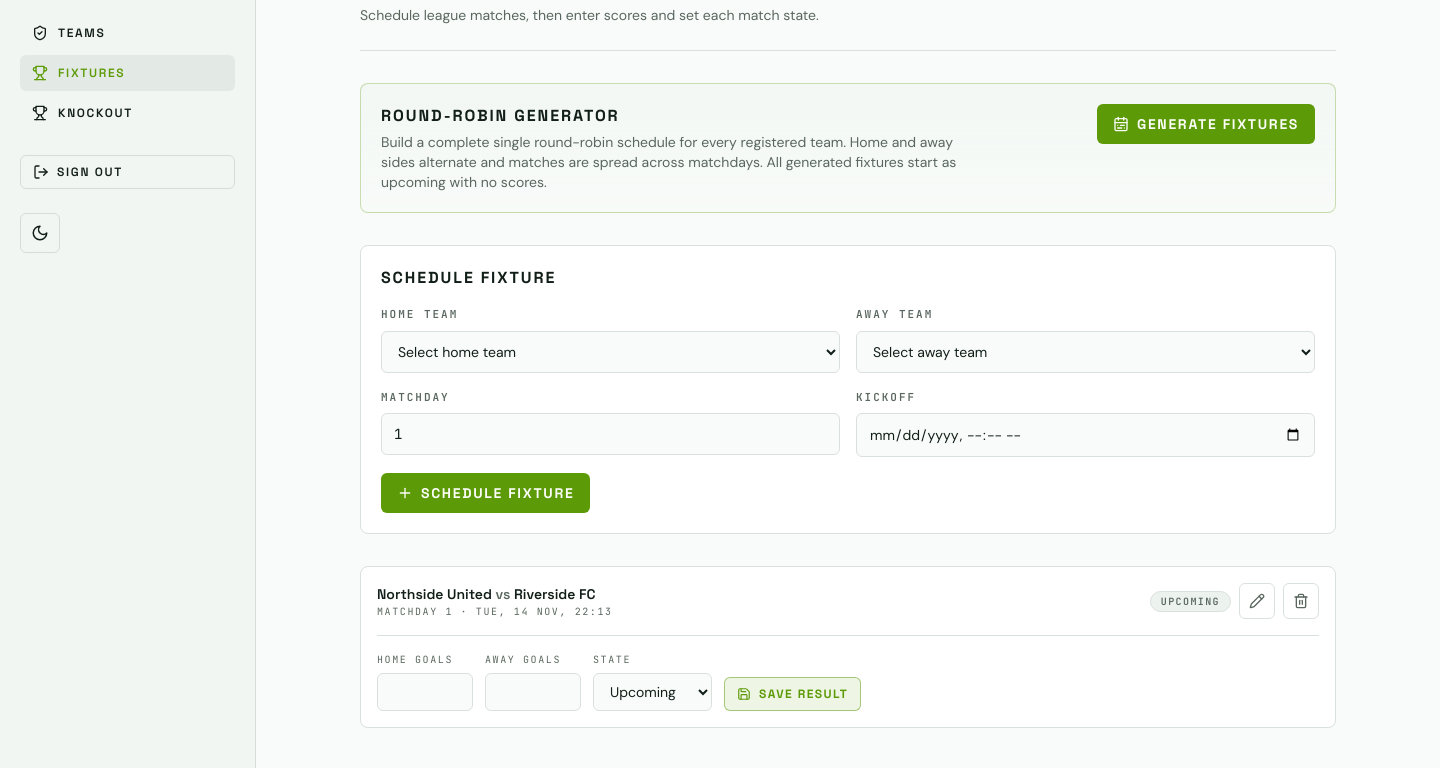
AdminFixturesPage › saves a completed result and shows the fixture as completed
The width and height of the screenshot is (1440, 768).
(page scrolled)
Type "3" into the number field with test id "admin.fixture_home_goals_input.1".
click(425, 692); type("3")  # box top-left (377, 673), bottom-right (473, 711)
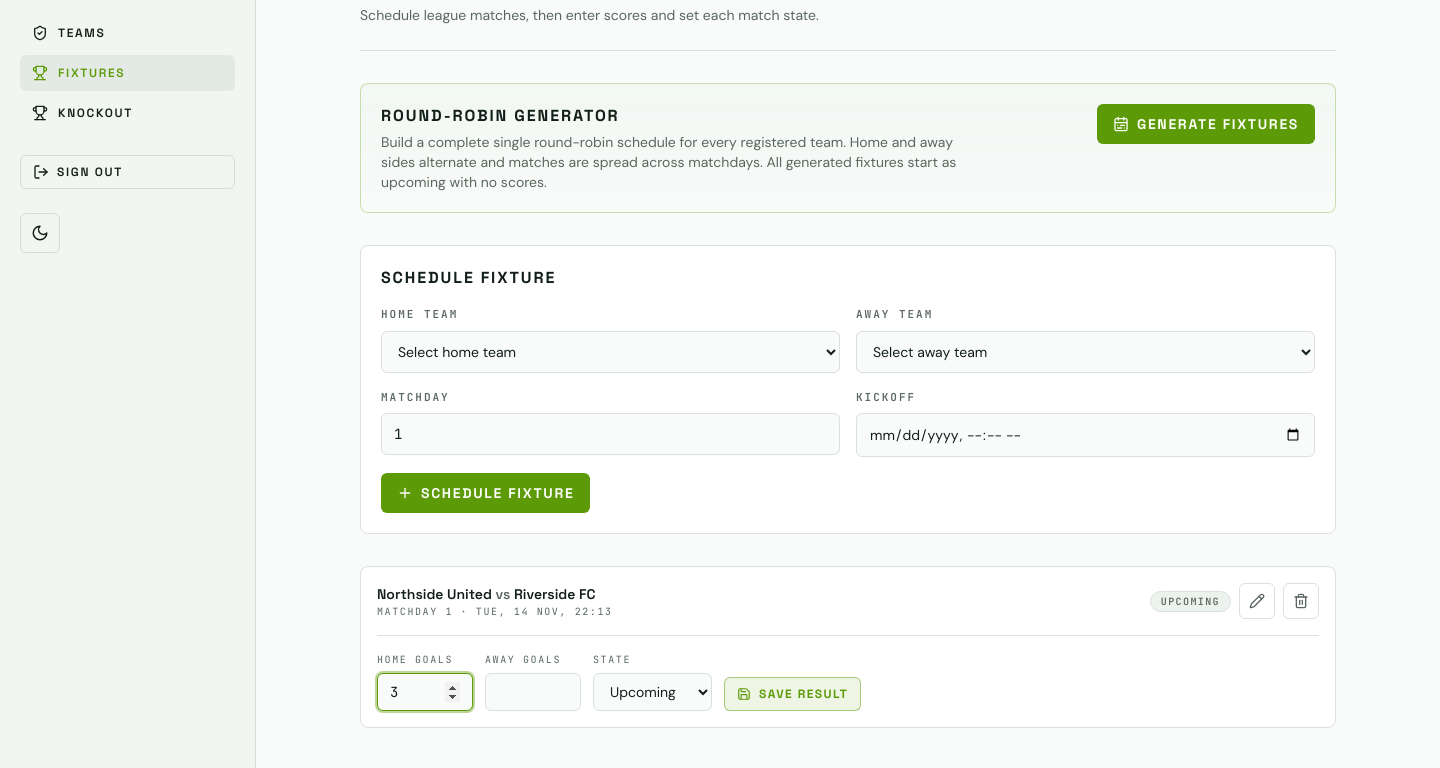
Type "1" into the number field with test id "admin.fixture_away_goals_input.1".
click(533, 692); type("1")  # box top-left (485, 673), bottom-right (581, 711)
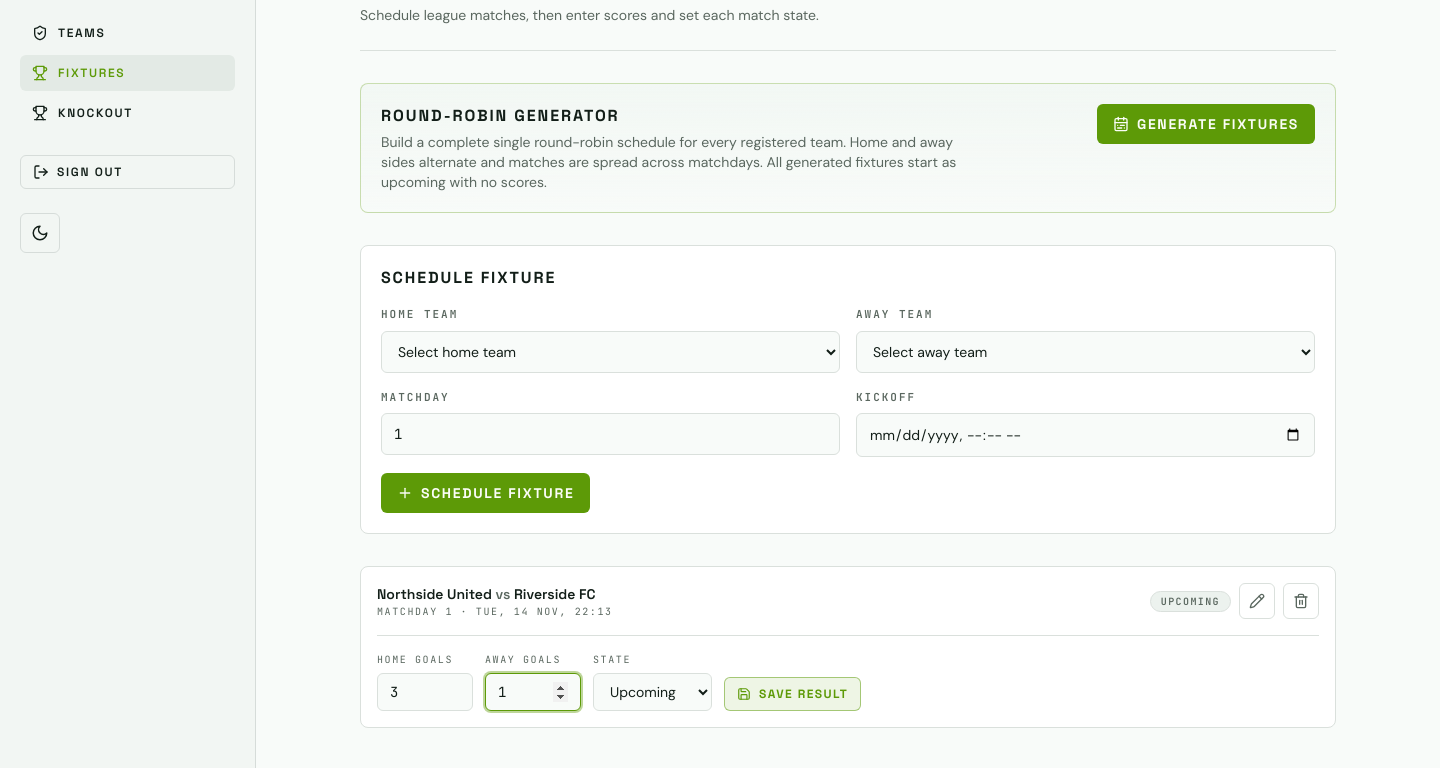
Select "Completed" in the dropdown with test id "admin.fixture_status_select.1" at coordinates (652, 692), box top-left (593, 673), bottom-right (712, 711)
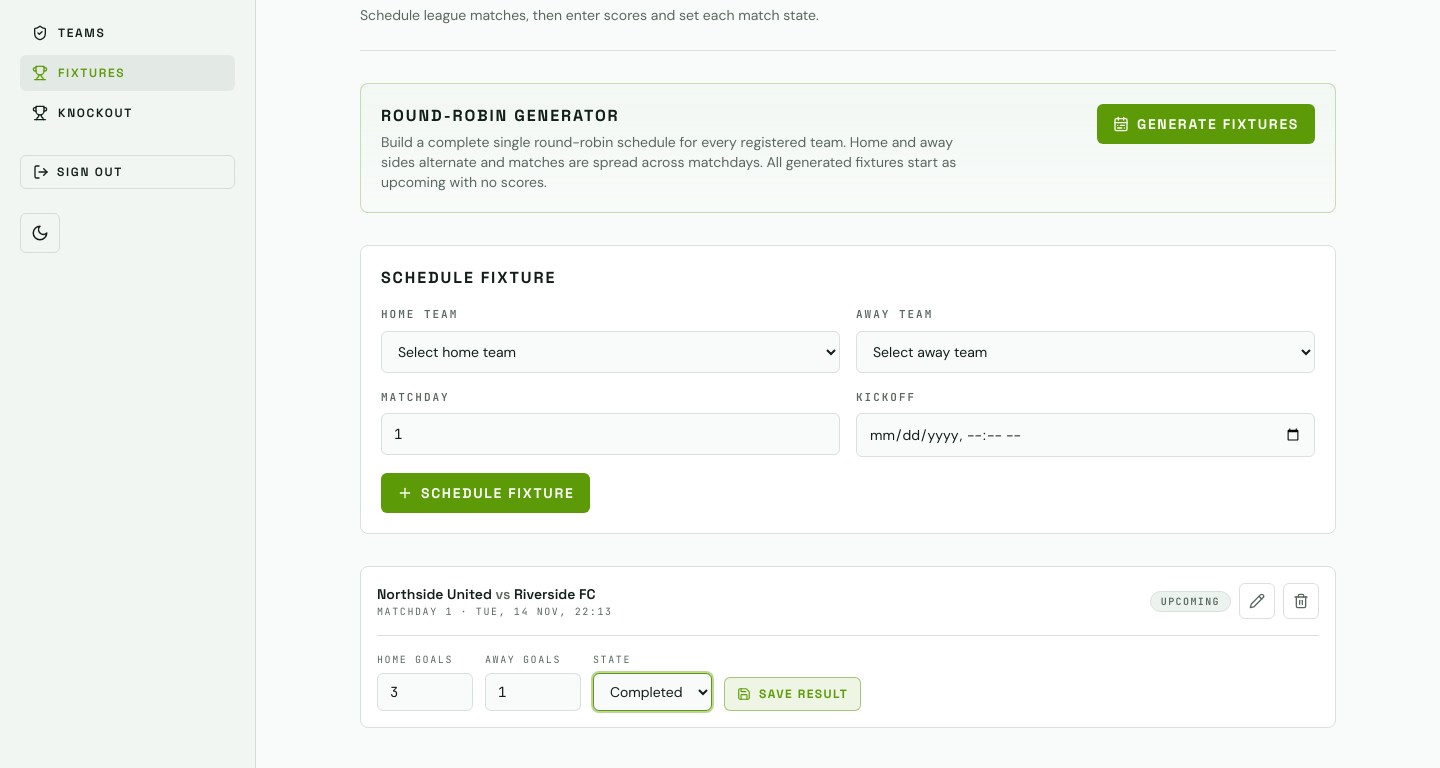
Click the button with test id "admin.fixture_save_result_button.1".
click(793, 694)  # box top-left (724, 677), bottom-right (861, 711)
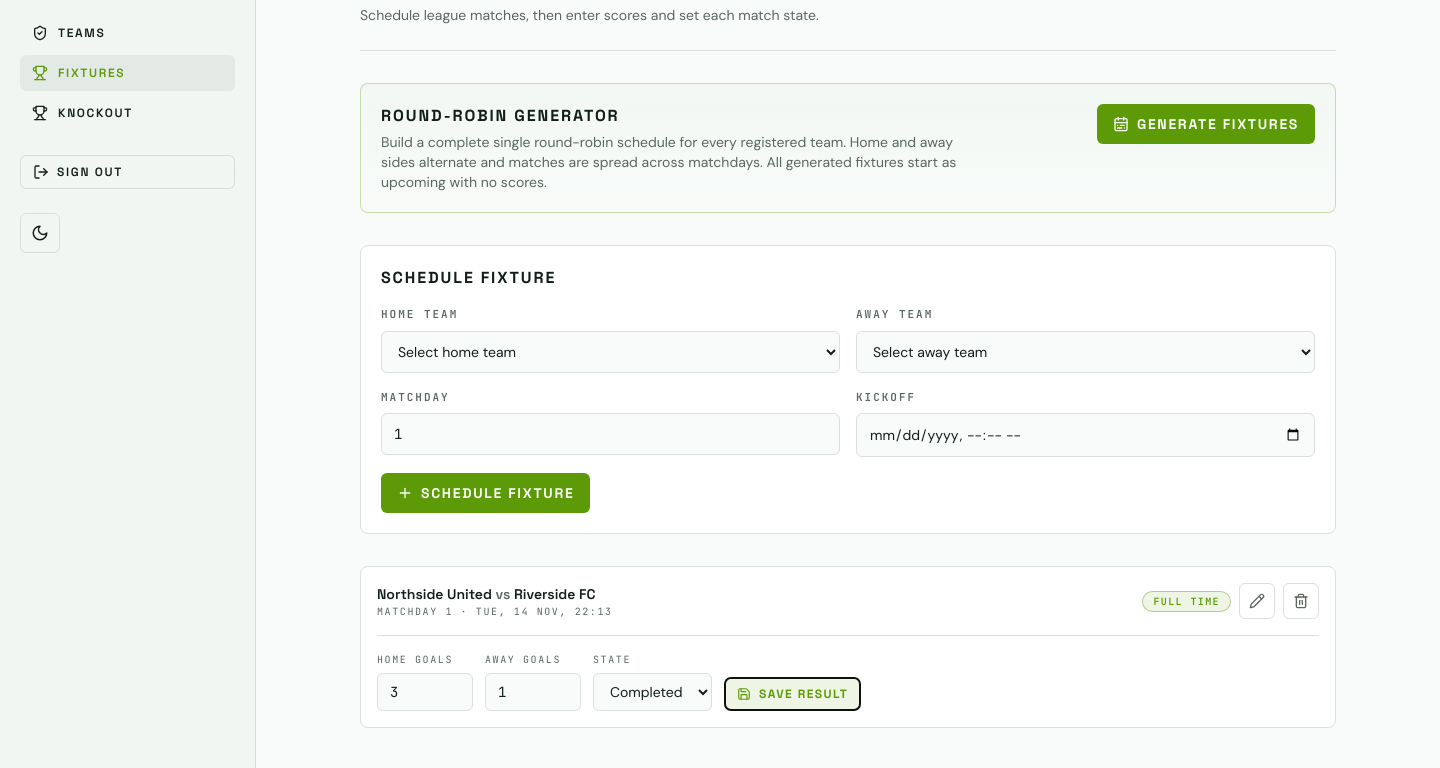
Result: the text "Full time" is shown at top-left (1142, 591), bottom-right (1231, 612)
